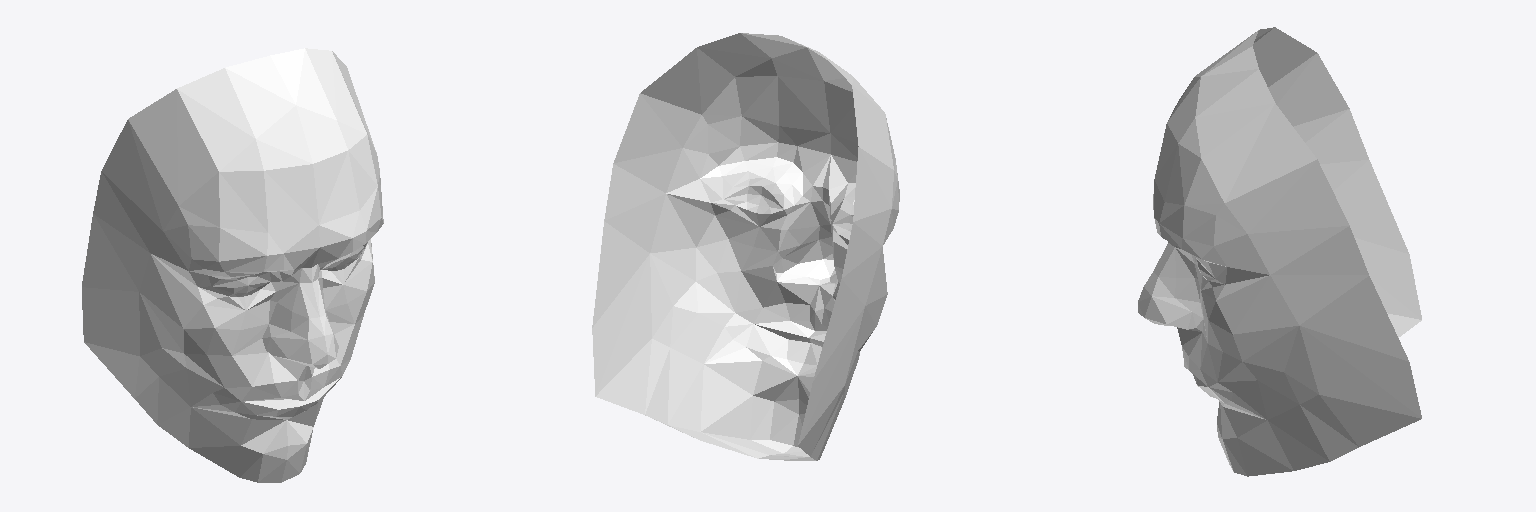
File: face_marc.obj
The picture shows the model from 3 angles: view 1: azimuth 30°, elevation 25°; view 2: azimuth 150°, elevation 25°; view 3: azimuth 270°, elevation 25°; orthographic projection.
Parts seen in each view (by area): view 1: face_marc.obj; view 2: face_marc.obj; view 3: face_marc.obj.
Boxes of the visible parts, x1,y1,x2,y2 form: face_marc.obj: [82, 48, 383, 482]; face_marc.obj: [592, 33, 899, 460]; face_marc.obj: [1138, 27, 1421, 476].
Bounding box in the file's own units: 0.0943 × 0.1581 × 0.0971.